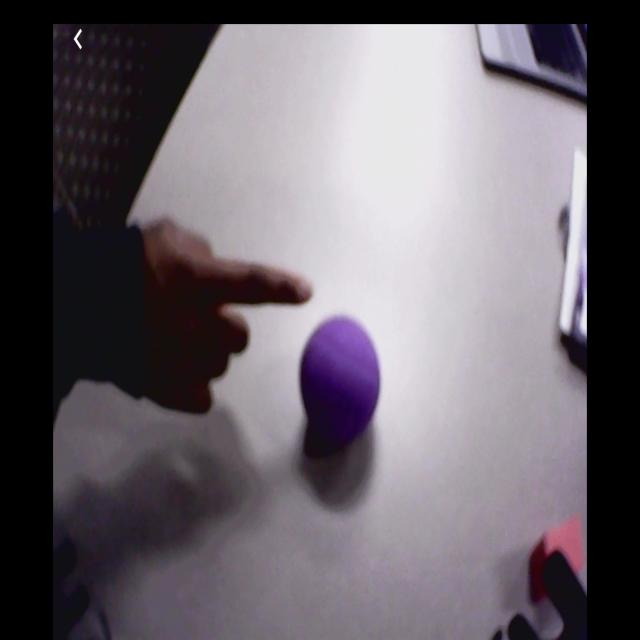ball: (301, 319, 383, 443)
